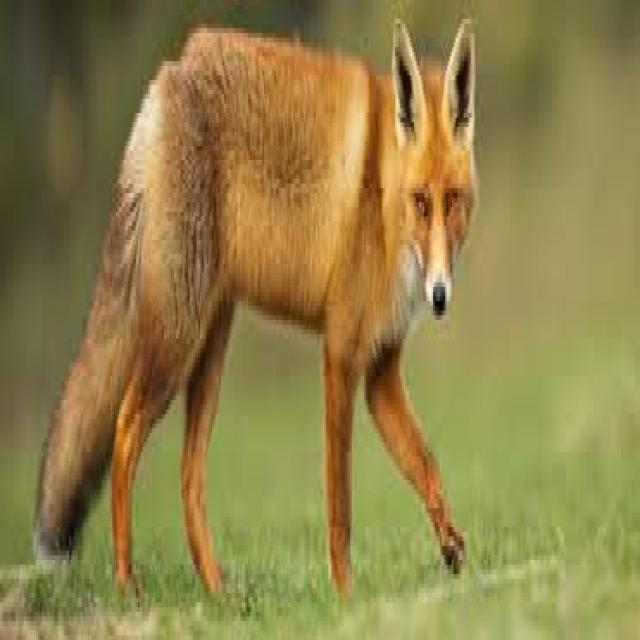fox: (31, 14, 478, 607)
